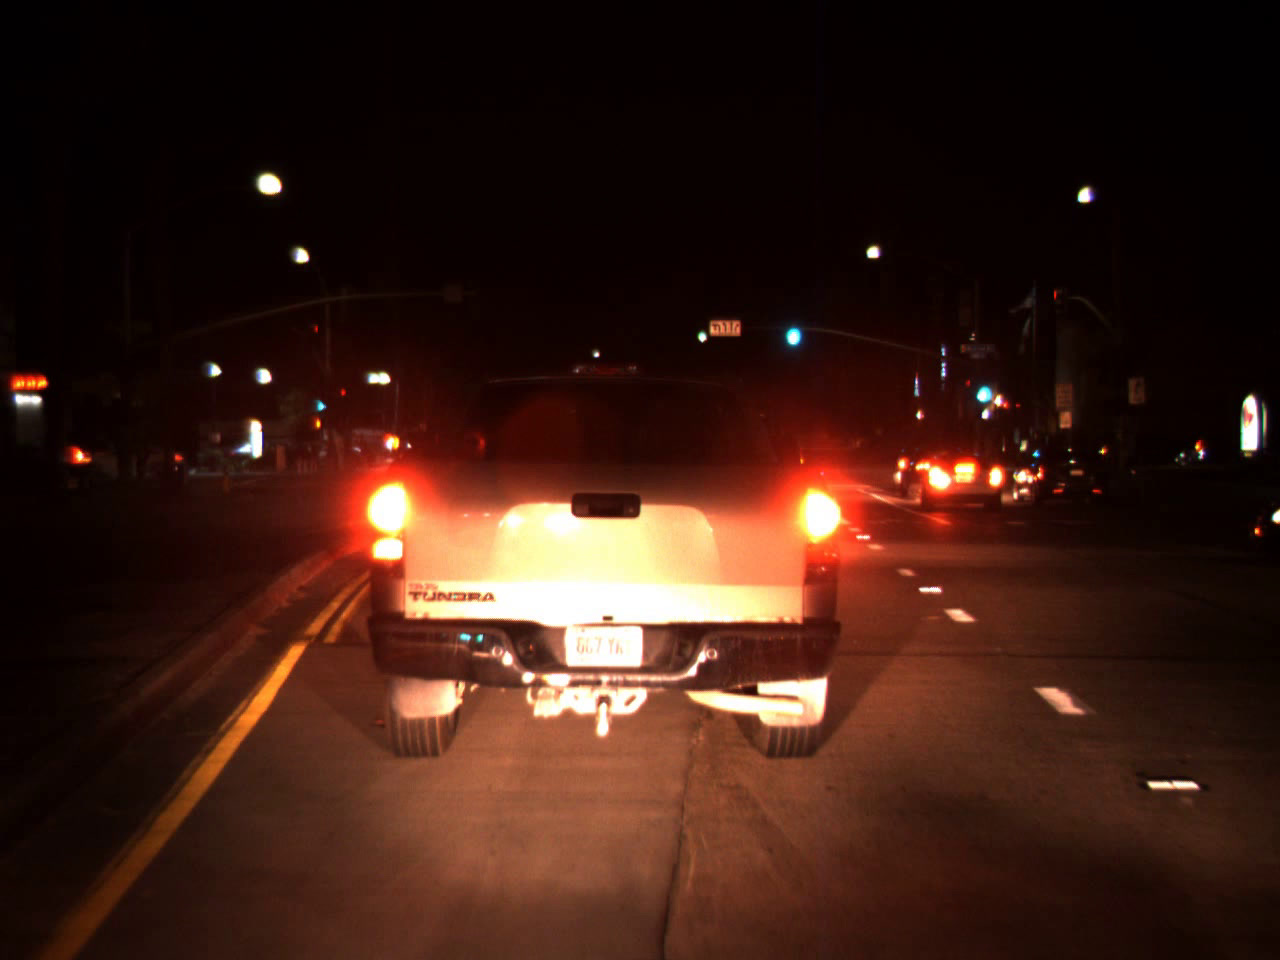go: (780, 306, 803, 351), (973, 367, 994, 409), (695, 317, 707, 344), (315, 392, 324, 413)
